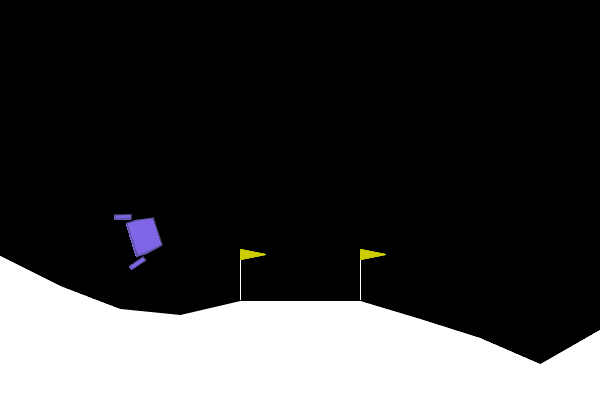lander: (112, 202, 168, 272)
